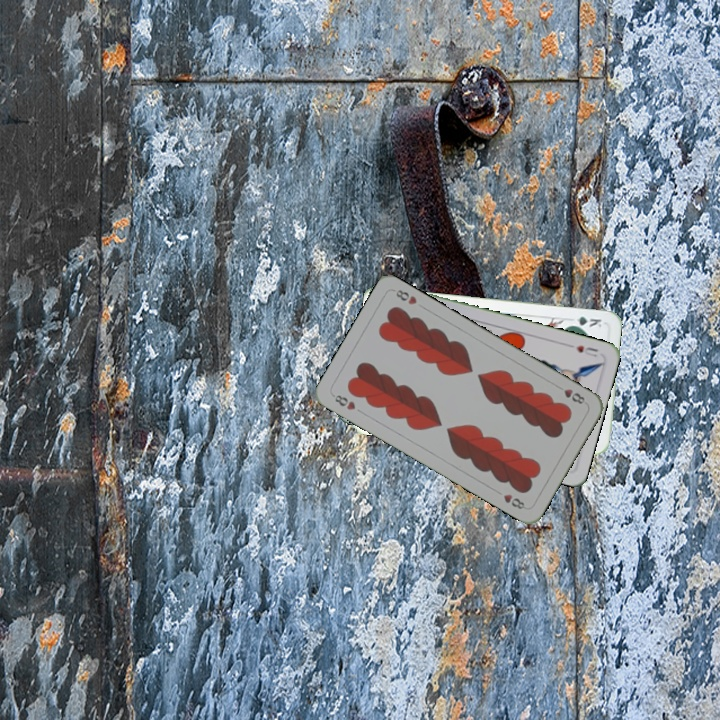GK: (565, 313, 604, 331)
H8: (552, 381, 587, 407), (328, 391, 358, 413)
HU: (572, 341, 600, 359)
